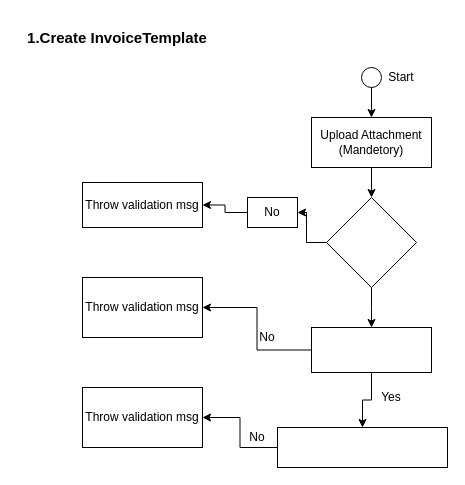
Some shapes in this 465 by 485 pixel diagram are drawn without their labels. Here are the shapes that lost their labels. From the top down, the centre of each, then its label:
At point 371,242: "Attachment Available".
At point 371,349: "is valid attachment type".
At point 362,447: "template name (Mandetory)".
